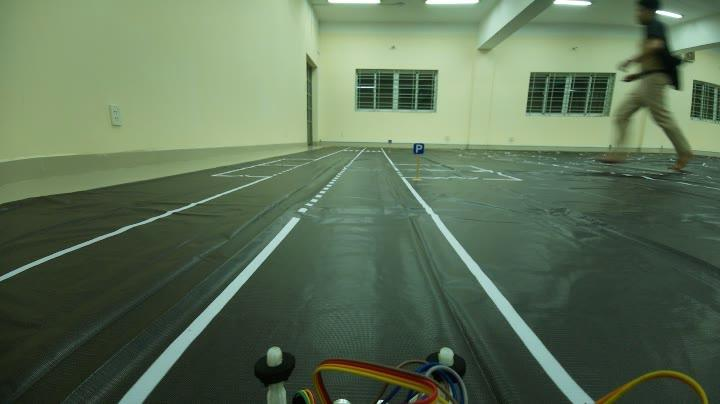parking: (408, 137, 427, 160)
